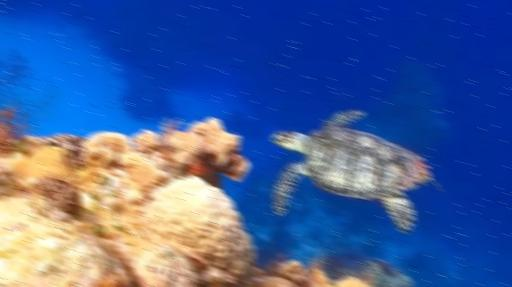Fish: (270, 103, 445, 238)
